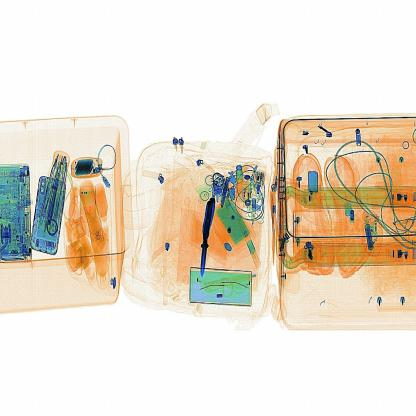gun: (178, 180, 221, 286)
